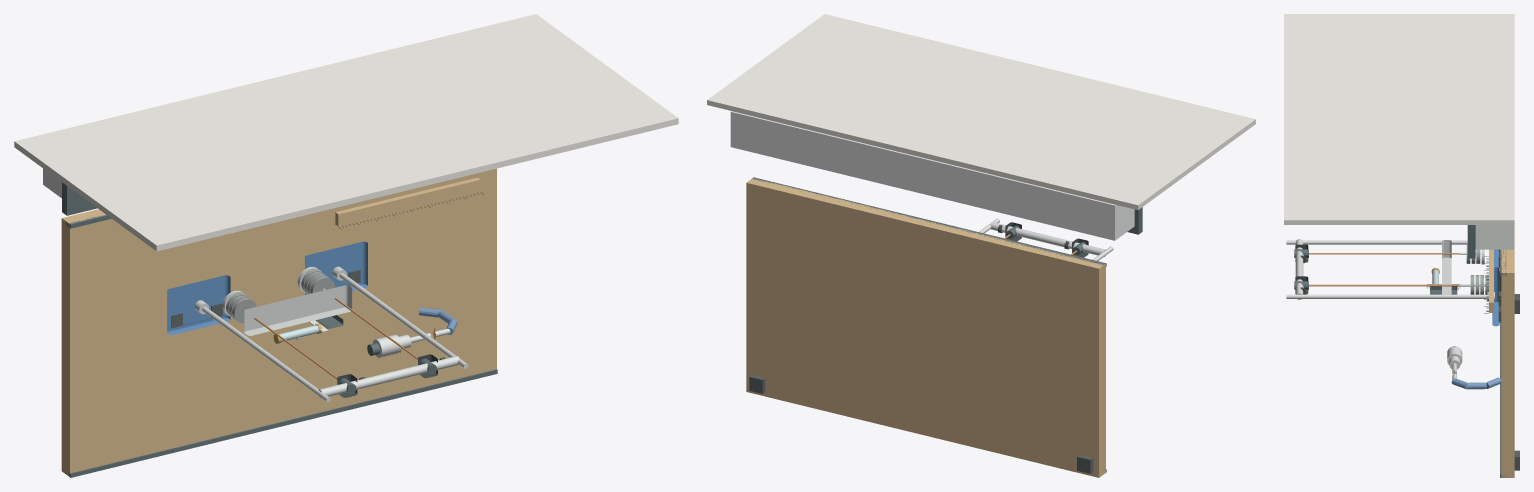
File: rp04-young-modulus.glb
3 renders of one model, left to right at view 1: azimuth 30°, elevation 25°; view 2: azimuth 150°, elevation 25°; view 3: azimuth 270°, elevation 25°, orthographic. The views are drawn at different scales.
Parts seen in each view (by area): view 1: Laboratory background wall, Laboratory bench laminate, Vernier comparison bridge, Young modulus support left blue base, Laboratory bench dark edge, Metre rule, Young modulus support right blue base, Top support beam, Young modulus support left vertical rod, Young modulus support right vertical rod; view 2: Laboratory bench laminate, Laboratory background wall, Laboratory background cabinet carcass, Laboratory bench rear edge, Top support beam; view 3: Laboratory background wall, Laboratory bench laminate, Young modulus support right vertical rod, Laboratory background cabinet carcass, Young modulus support left vertical rod, Vernier comparison bridge, Long suspended wire test wire, Top support beam, Young modulus support right blue base, Metre rule, Laboratory bench dark edge, Laboratory background worktop (+1 smaller).
Part boxes in pixels (box(x1,y1,x2,y2)): Laboratory background wall: box(14, 14, 678, 251); Laboratory bench laminate: box(61, 168, 496, 476); Vernier comparison bridge: box(244, 285, 352, 335); Young modulus support left blue base: box(167, 275, 230, 334); Laboratory bench dark edge: box(68, 369, 497, 477); Metre rule: box(335, 177, 480, 226); Young modulus support right blue base: box(305, 241, 367, 294); Top support beam: box(319, 356, 459, 398); Young modulus support left vertical rod: box(202, 306, 330, 402); Young modulus support right vertical rod: box(339, 273, 468, 368); Laboratory bench laminate: box(746, 178, 1105, 477); Laboratory background wall: box(707, 14, 1255, 209); Laboratory background cabinet carcass: box(730, 111, 1134, 240); Laboratory bench rear edge: box(752, 177, 1106, 266); Top support beam: box(990, 222, 1105, 256); Laboratory background wall: box(1284, 14, 1514, 224); Laboratory bench laminate: box(1501, 225, 1514, 477); Young modulus support right vertical rod: box(1286, 294, 1487, 298); Laboratory background cabinet carcass: box(1475, 225, 1514, 249); Young modulus support left vertical rod: box(1286, 240, 1467, 244); Vernier comparison bridge: box(1442, 240, 1451, 294); Long suspended wire test wire: box(1309, 284, 1459, 286); Top support beam: box(1295, 239, 1303, 299); Young modulus support right blue base: box(1492, 267, 1499, 326); Metre rule: box(1489, 249, 1493, 312); Laboratory bench dark edge: box(1500, 322, 1506, 477); Laboratory background worktop: box(1467, 225, 1475, 258).
Bounding box in the file's own units: 11 × 6.88 × 5.32.
